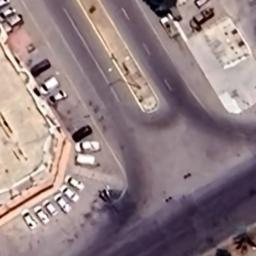SUV: (0, 14, 24, 34)
pickup: (190, 8, 214, 30), (73, 140, 101, 153)
sedan: (70, 123, 94, 143), (30, 57, 52, 77), (53, 193, 72, 215), (59, 184, 79, 204), (65, 174, 85, 192), (21, 210, 37, 232), (34, 205, 50, 227), (46, 90, 68, 104), (42, 199, 58, 218), (0, 6, 17, 22), (0, 0, 12, 9)
van: (36, 76, 62, 94), (74, 152, 97, 167)
